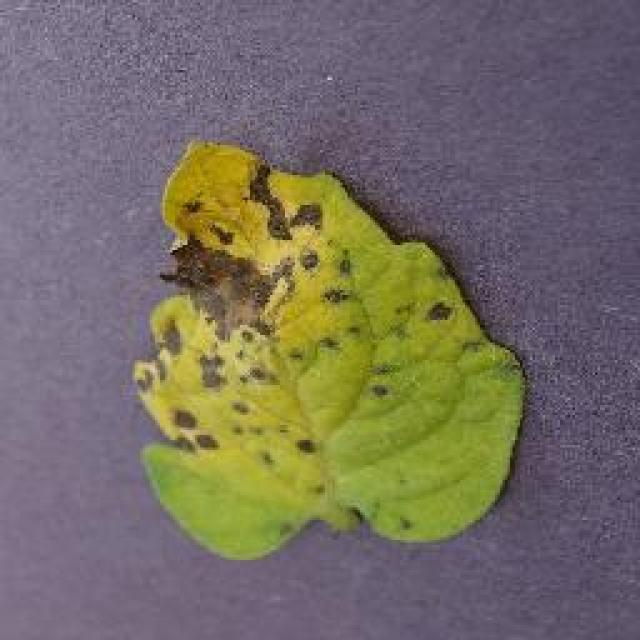Tomato target spot leaf: (135, 138, 520, 568)
